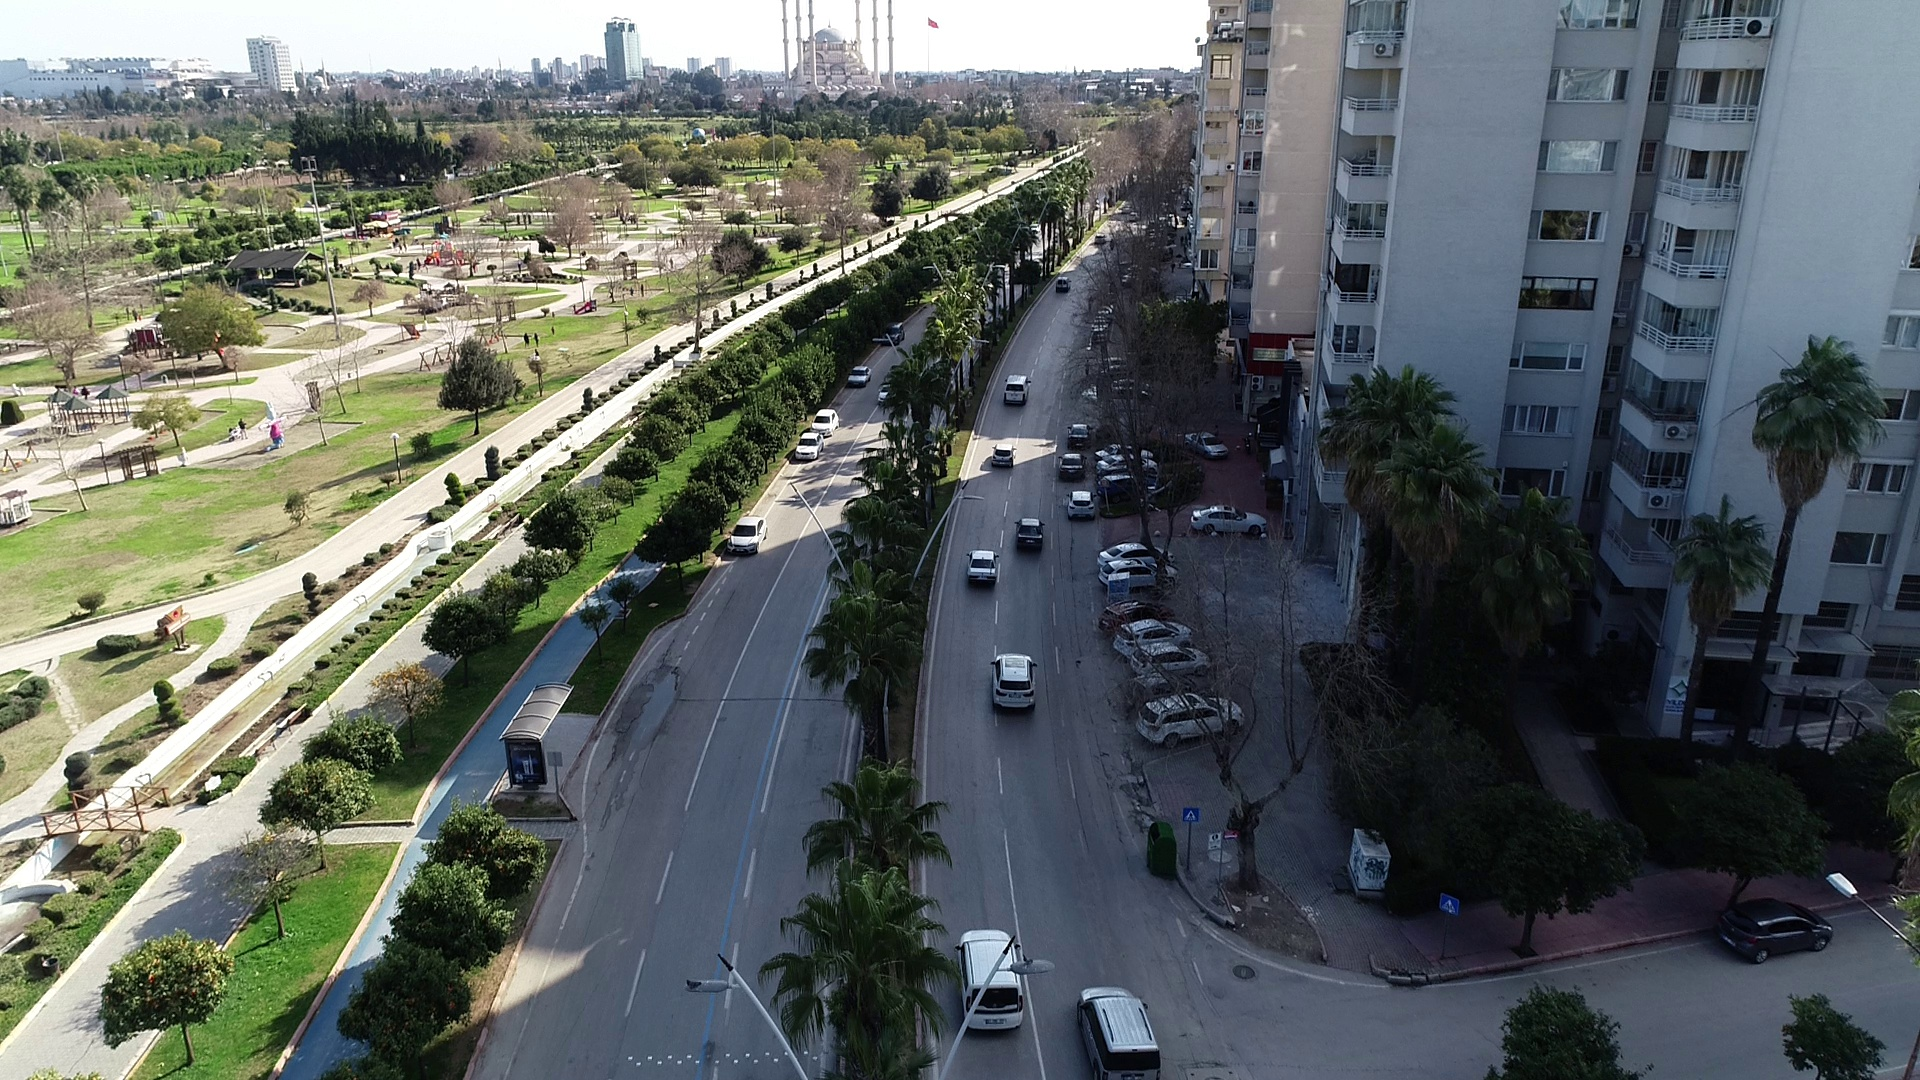car: (1066, 972, 1169, 1080), (1706, 892, 1840, 969), (957, 927, 1029, 1042), (1130, 692, 1251, 746), (983, 646, 1046, 724), (1119, 645, 1231, 686), (1183, 505, 1274, 550), (1114, 618, 1196, 658), (1098, 557, 1185, 592), (1007, 508, 1051, 567), (1096, 539, 1176, 569), (1180, 427, 1237, 468), (722, 515, 770, 561), (958, 545, 1002, 592), (789, 427, 828, 473), (1058, 487, 1098, 527), (1052, 450, 1085, 486), (985, 441, 1019, 472), (1065, 417, 1089, 456), (807, 408, 838, 438), (842, 365, 872, 395), (879, 322, 906, 349), (1051, 277, 1074, 297)
person: (237, 416, 253, 444), (531, 330, 543, 347), (522, 331, 531, 351)
